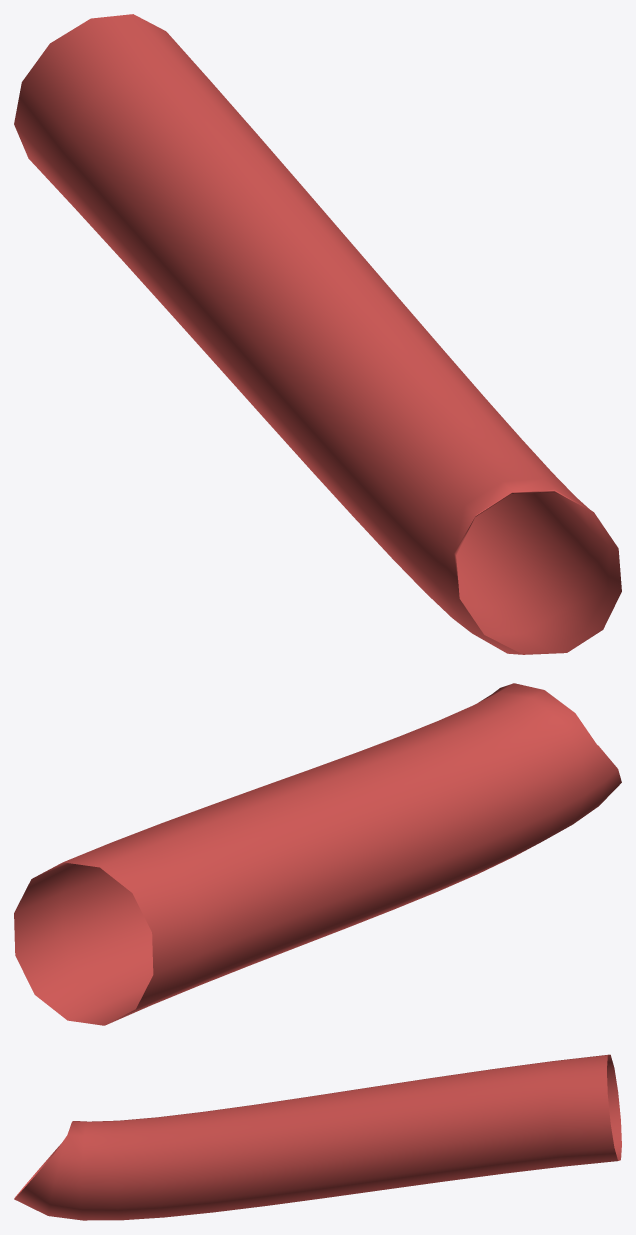
The picture shows the model from 3 angles, top to bottom: view 1: azimuth 30°, elevation 25°; view 2: azimuth 150°, elevation 25°; view 3: azimuth 270°, elevation 25°; orthographic projection. The views are drawn at different scales.
Parts seen in each view (by area): view 1: 右侧甲状颈干; view 2: 右侧甲状颈干; view 3: 右侧甲状颈干.
Boxes of the visible parts, x1,y1,x2,y2 form: 右侧甲状颈干: (14,14,621,654); 右侧甲状颈干: (14,683,621,1025); 右侧甲状颈干: (14,1054,621,1220).
Bounding box in the file's own units: 0.00387 × 0.00545 × 0.0179.
